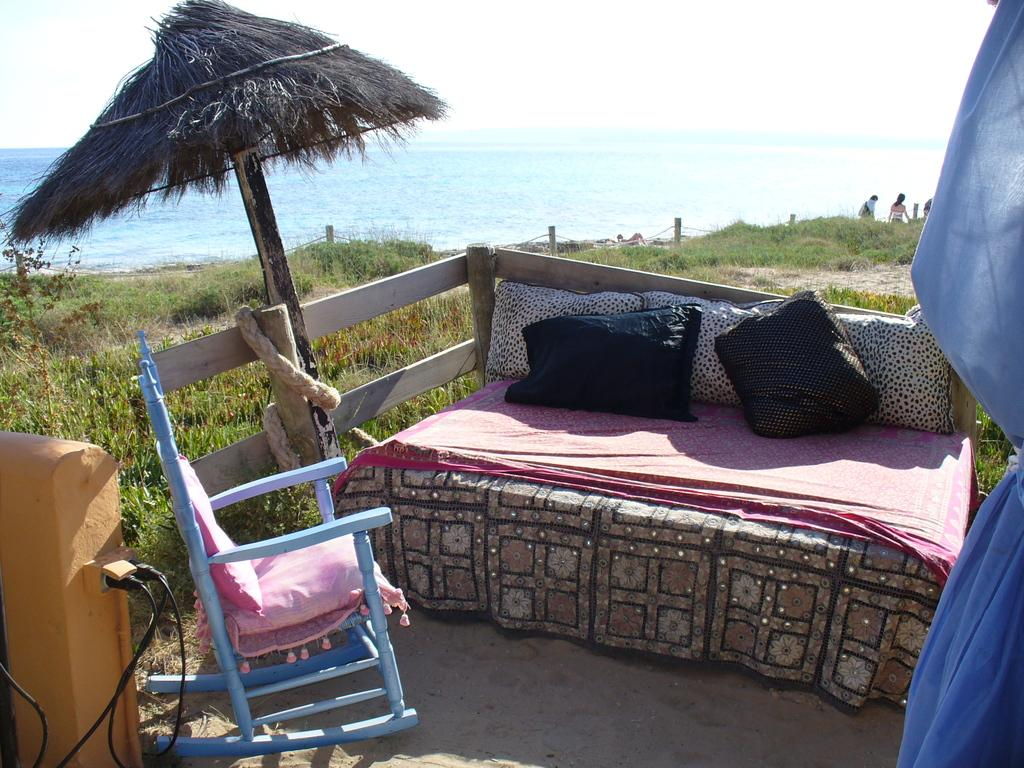Chair: (110, 316, 415, 768)
